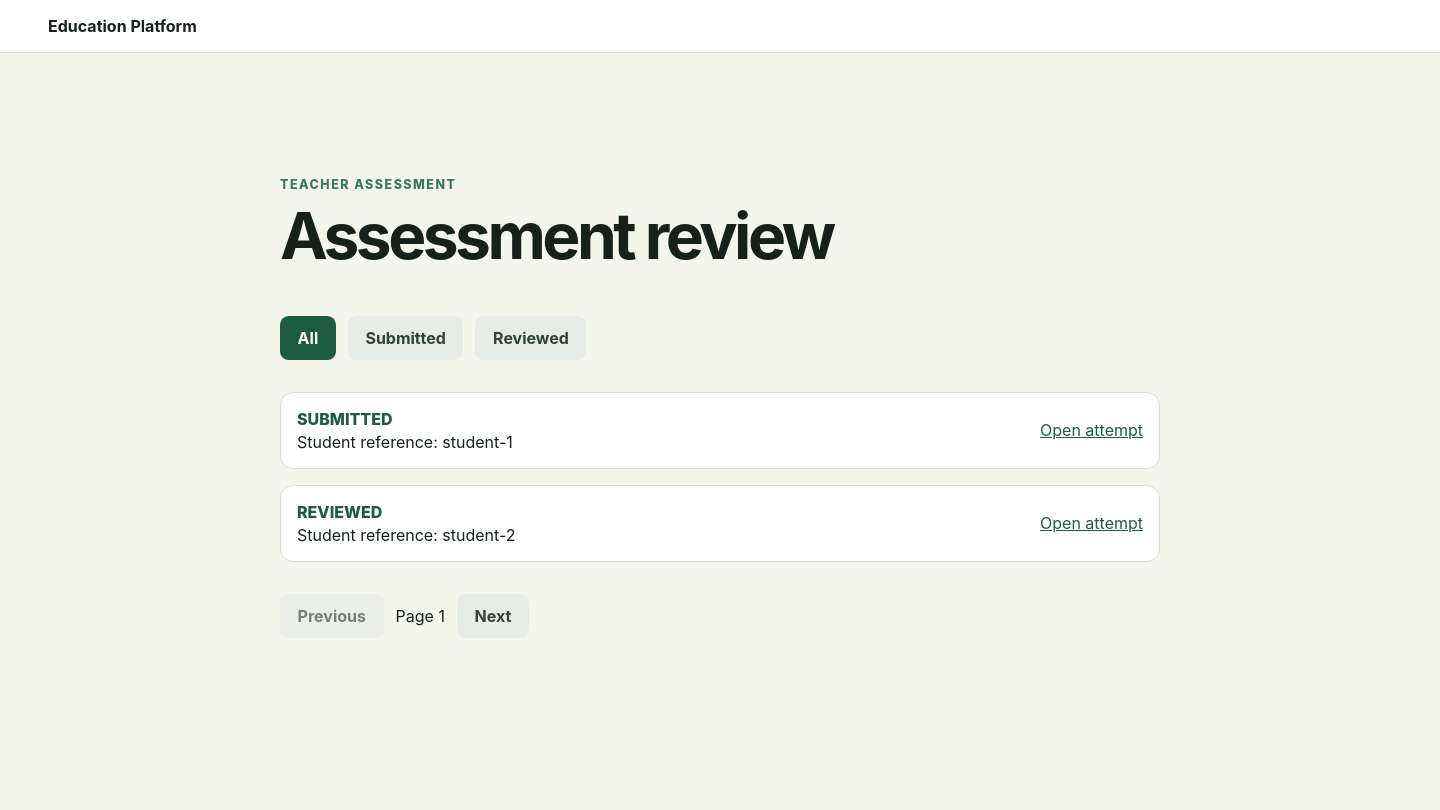
Test: Teacher Assessment Review UI › loads, renders, and paginates the Review Queue with API params
Expected: the text "SUBMITTED" is shown, x1=297 y1=409 x2=392 y2=429
Expected: the text "REVIEWED" is shown, x1=297 y1=502 x2=382 y2=522
Click the button "Submitted" at point(406, 338), box x1=348 y1=316 x2=464 y2=360
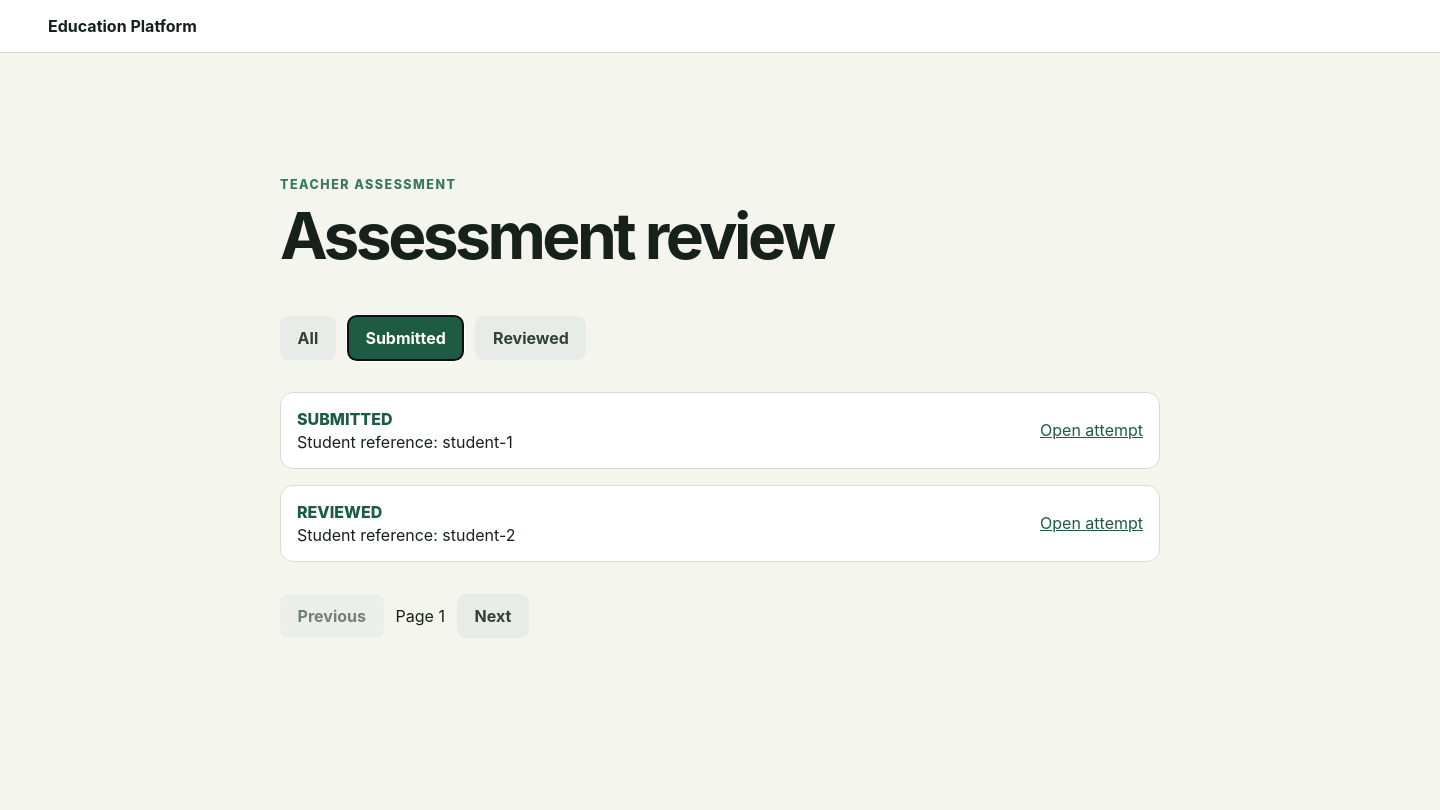
Expected: the text "Student reference: student-2" is shown, x1=297 y1=525 x2=516 y2=545
Click the button "All" at point(308, 338), box x1=280 y1=316 x2=336 y2=360
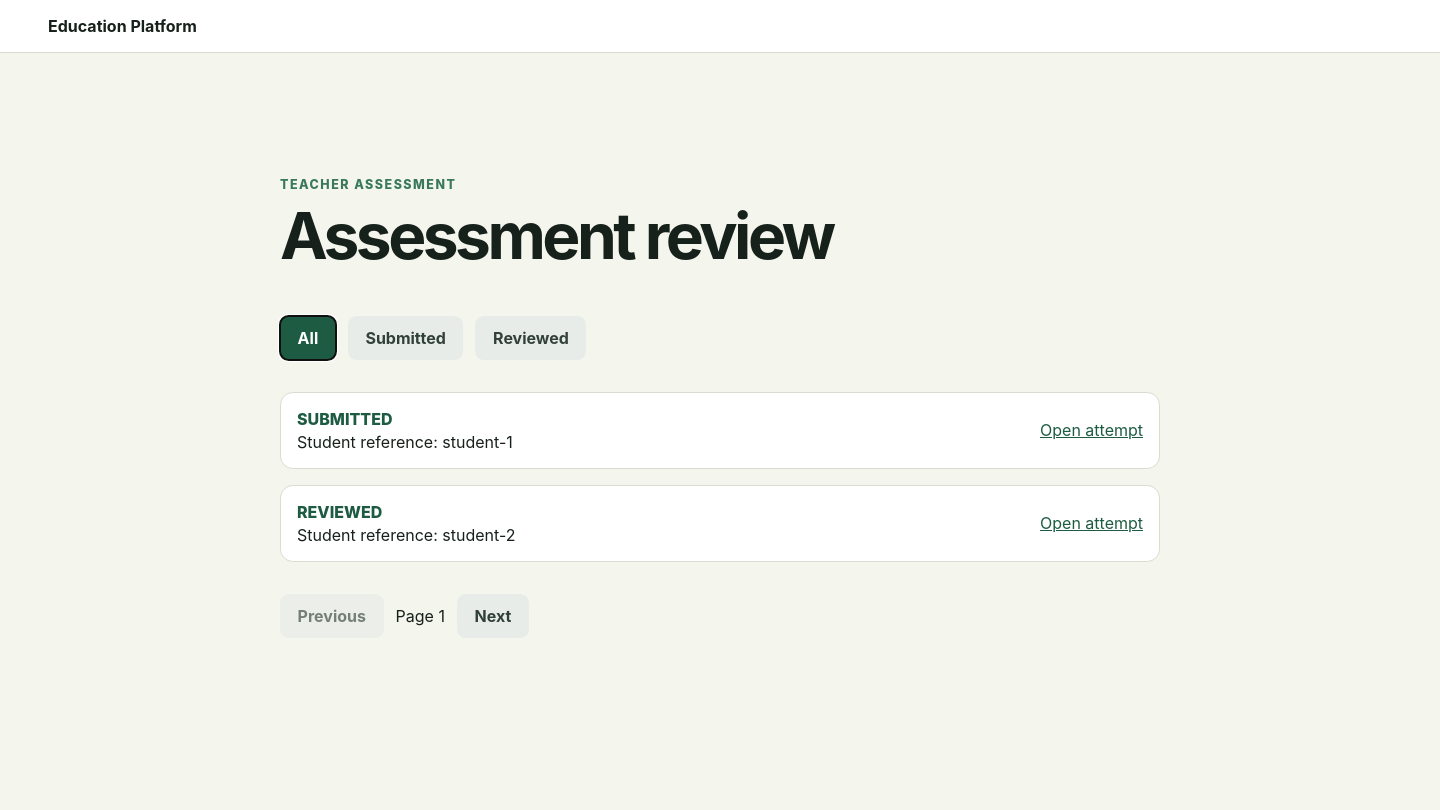
Click the button "Next" at point(493, 616), box x1=457 y1=594 x2=529 y2=638
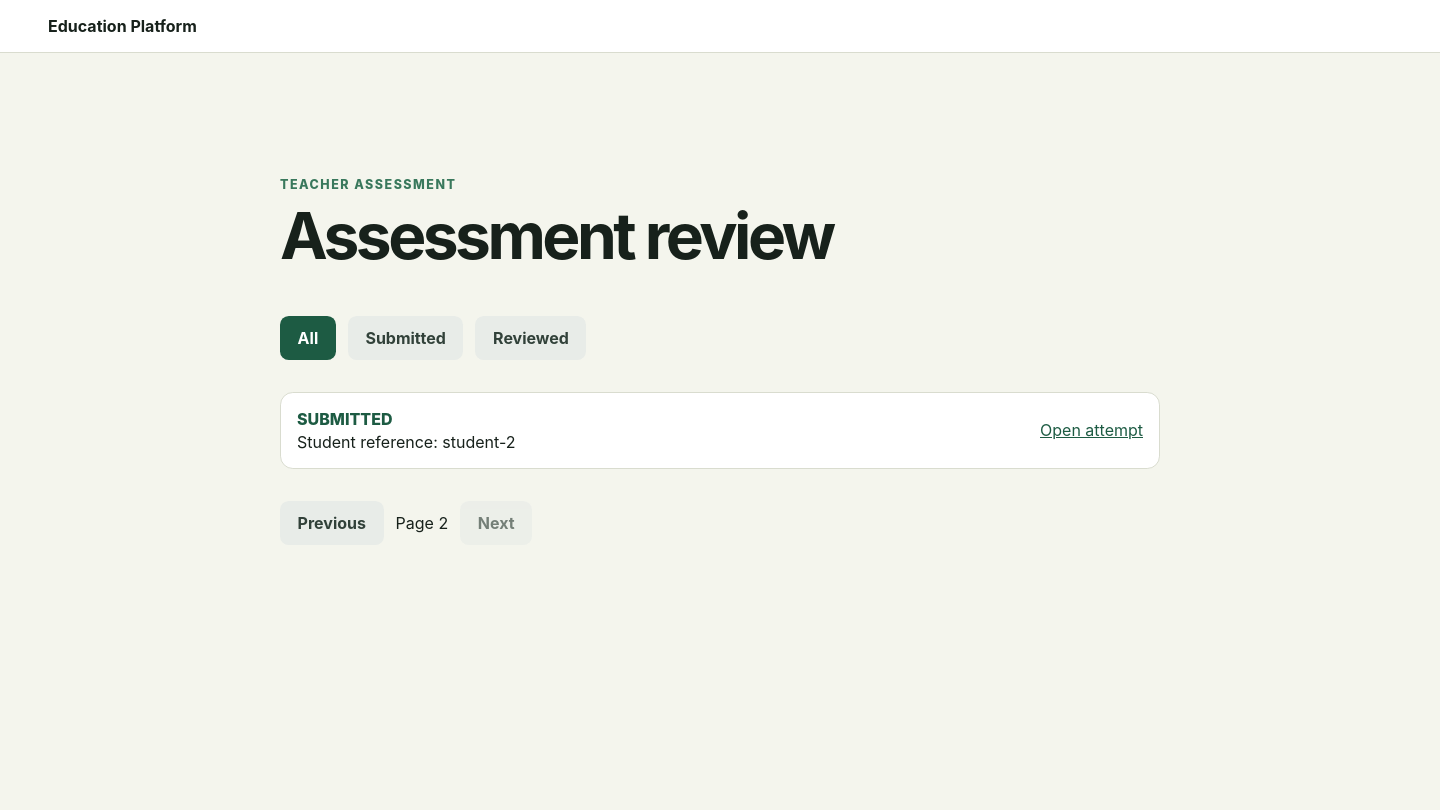
Now the text "Page 2" is shown, box x1=396 y1=513 x2=448 y2=533
Now the button "Next" is disabled, box x1=460 y1=501 x2=532 y2=545
Click the button "Previous" at point(332, 523), box x1=280 y1=501 x2=384 y2=545
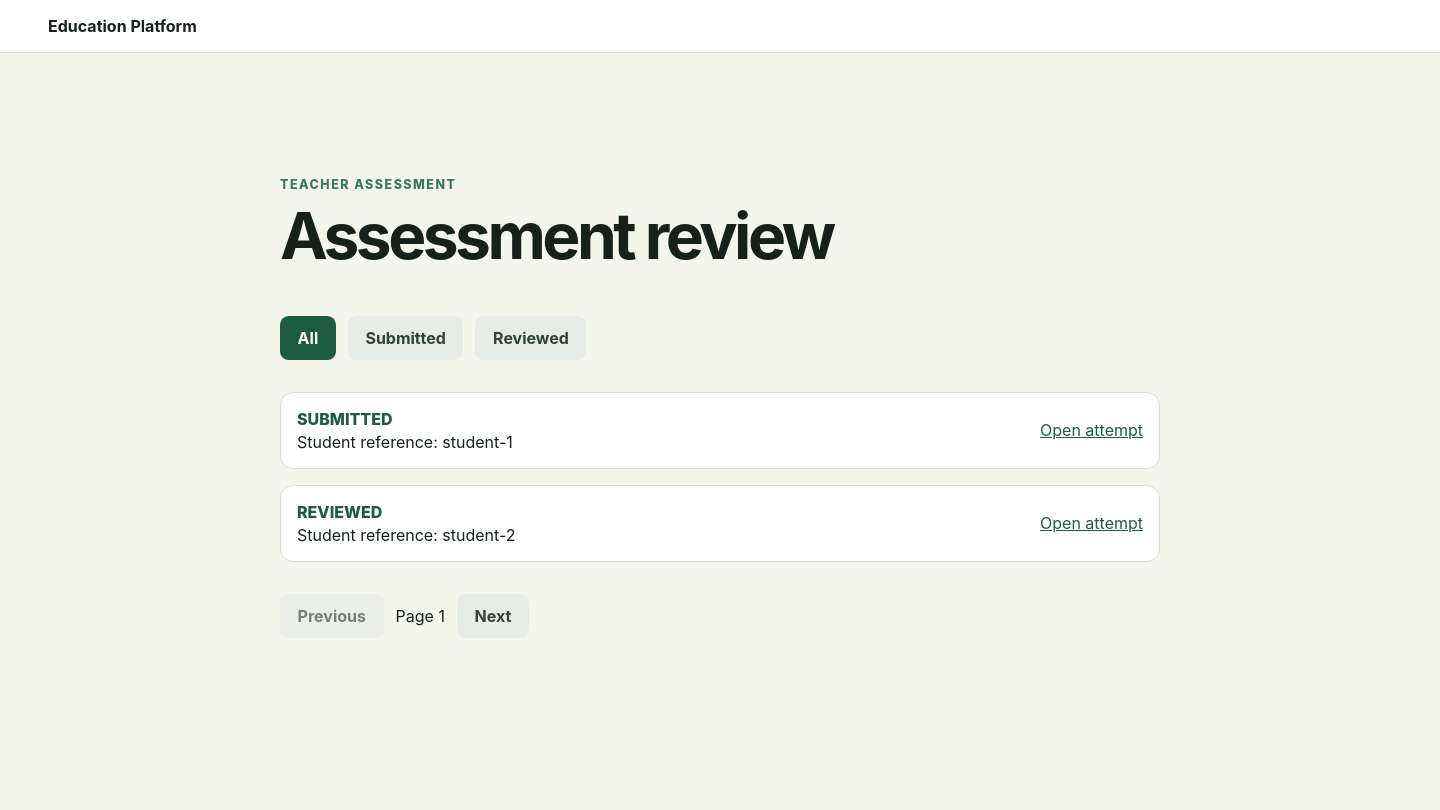
Now the text "Page 1" is shown, box x1=396 y1=606 x2=445 y2=626
